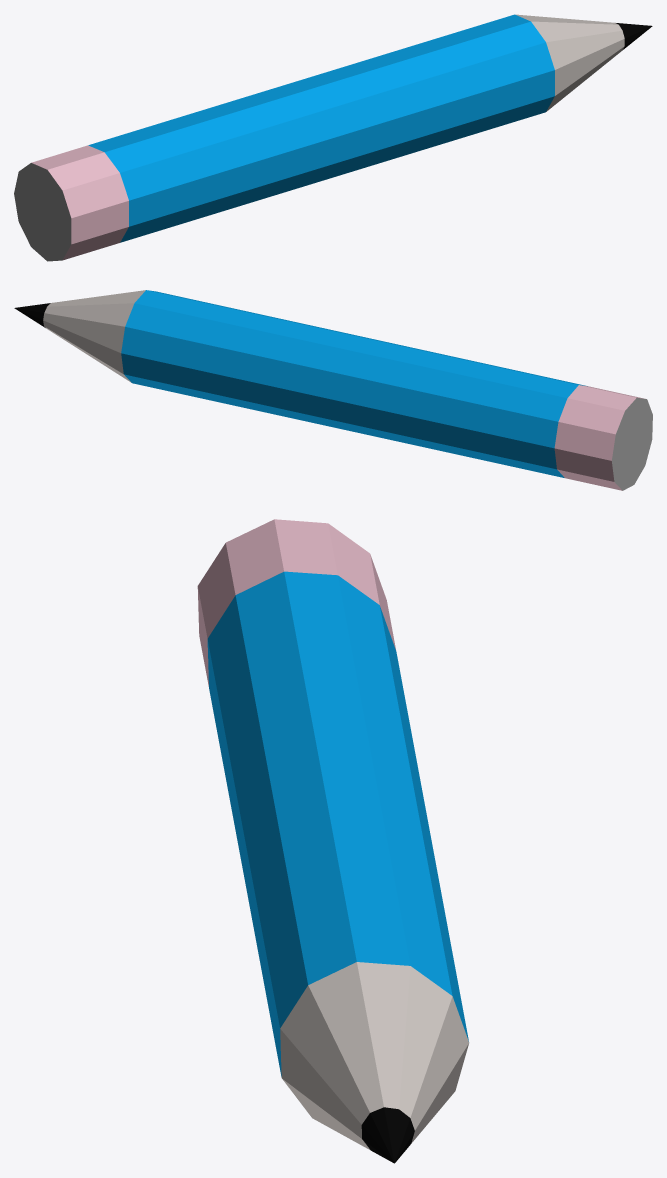
Rendered from SU_bluepen.fbx.
The picture shows the model from 3 angles, top to bottom: view 1: azimuth 30°, elevation 25°; view 2: azimuth 150°, elevation 25°; view 3: azimuth 270°, elevation 25°; orthographic projection. The views are drawn at different scales.
Parts seen in each view (by area): view 1: pasted__pCylinder5; view 2: pasted__pCylinder5; view 3: pasted__pCylinder5.
Part boxes in pixels (<box>): pasted__pCylinder5: <box>14,14,652,261</box>; pasted__pCylinder5: <box>14,290,652,490</box>; pasted__pCylinder5: <box>197,519,469,1163</box>.
Size of the model in its own units: 0.8011 by 0.1214 by 0.1581.
